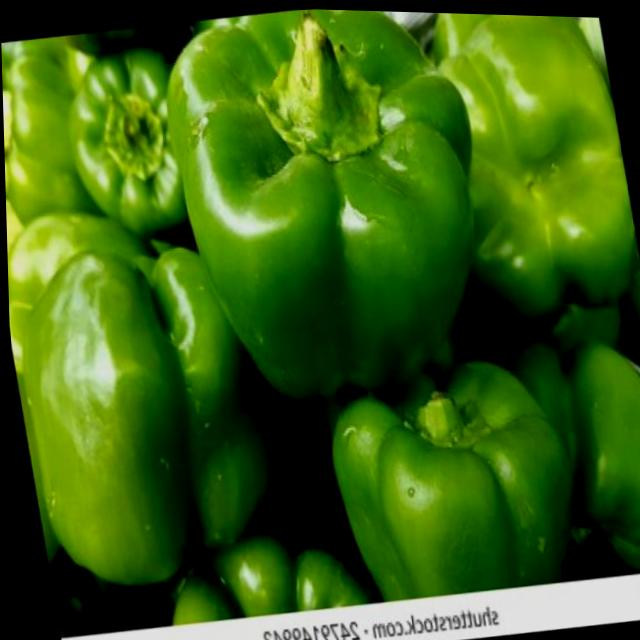Capsicum: (164, 4, 493, 411), (425, 10, 638, 333), (9, 237, 202, 592), (322, 353, 588, 606), (64, 42, 190, 235), (154, 527, 356, 632), (120, 44, 171, 111)
